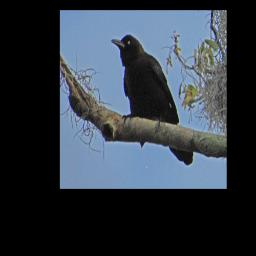Crow: (111, 35, 194, 166)
